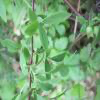Blueberry leaf: (41, 10, 71, 27), (0, 36, 22, 57), (34, 72, 55, 94), (37, 24, 50, 57), (23, 17, 40, 38), (19, 50, 31, 79), (43, 59, 54, 83), (50, 49, 69, 62), (28, 8, 39, 23)
